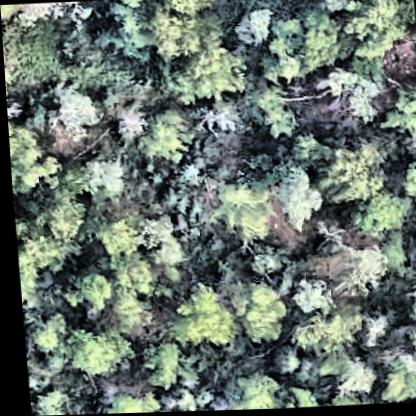tree-top: (150, 0, 240, 109), (253, 2, 350, 86), (11, 190, 86, 273), (161, 281, 232, 356), (312, 134, 382, 202), (50, 323, 130, 377), (342, 182, 414, 242), (346, 0, 413, 61), (211, 174, 271, 242), (268, 161, 321, 231), (377, 79, 416, 162), (231, 280, 281, 342), (7, 130, 53, 197), (245, 93, 301, 146), (140, 107, 191, 164), (287, 311, 358, 351), (129, 214, 181, 266), (104, 251, 154, 303), (100, 10, 151, 60), (57, 261, 111, 307), (133, 333, 178, 388), (50, 83, 98, 134), (18, 309, 60, 361), (219, 370, 271, 410), (376, 353, 416, 404), (229, 6, 278, 43), (283, 276, 328, 315), (327, 356, 369, 396), (93, 215, 136, 252), (241, 241, 283, 278), (98, 387, 152, 414), (15, 96, 50, 134), (53, 162, 87, 198), (399, 157, 416, 219), (356, 312, 386, 345), (395, 304, 416, 350), (265, 348, 295, 376)
